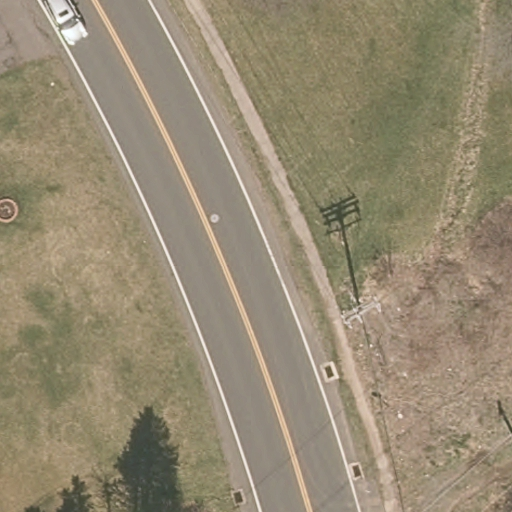DT: (341, 290, 384, 334)
